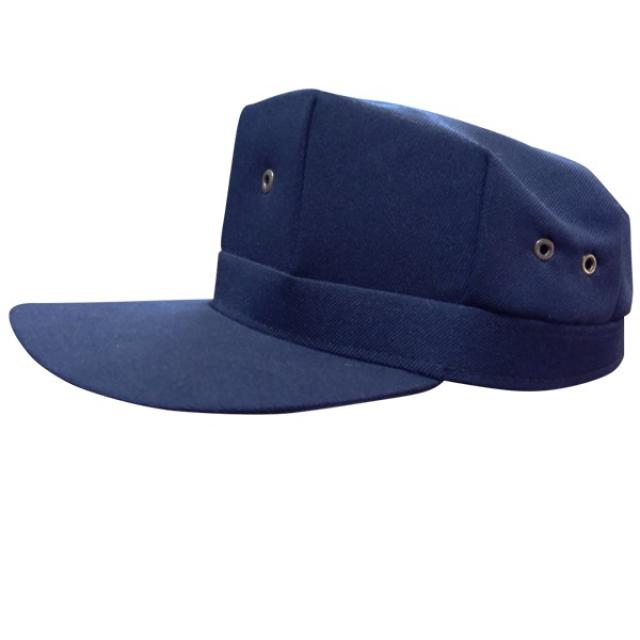Nonhelmet: (7, 84, 634, 417)
